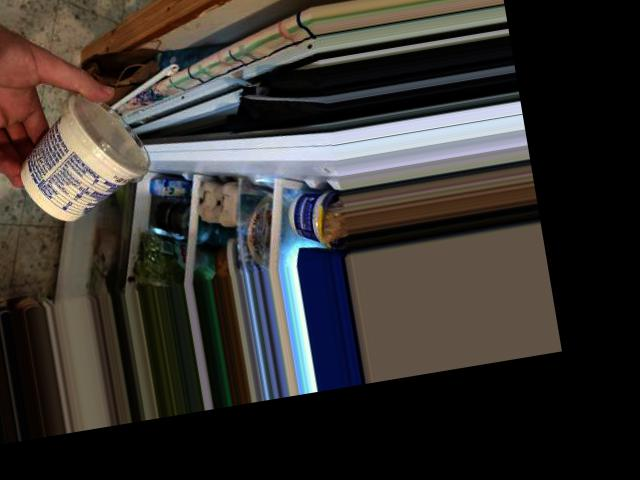cotage: (10, 77, 138, 214)
